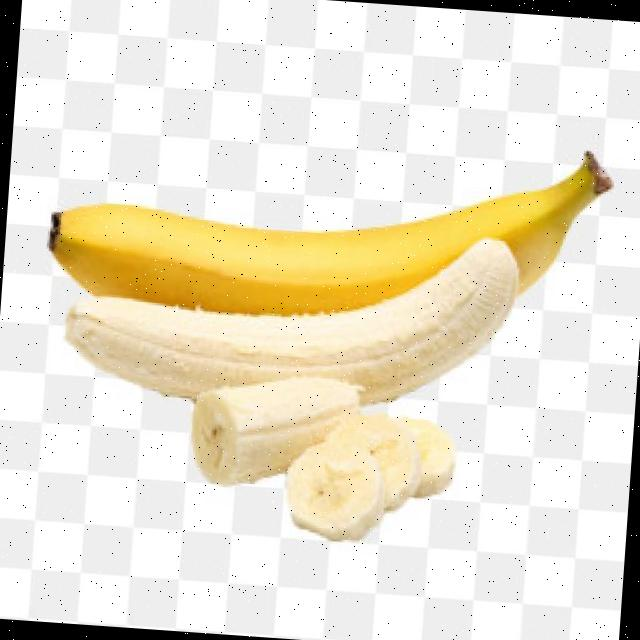banana-peel: (42, 111, 616, 339), (59, 207, 522, 420)
